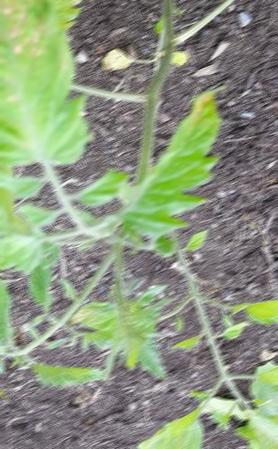Tomato leaf bacterial spot: (0, 0, 95, 200), (111, 89, 233, 244), (113, 399, 208, 449), (230, 400, 278, 449)
